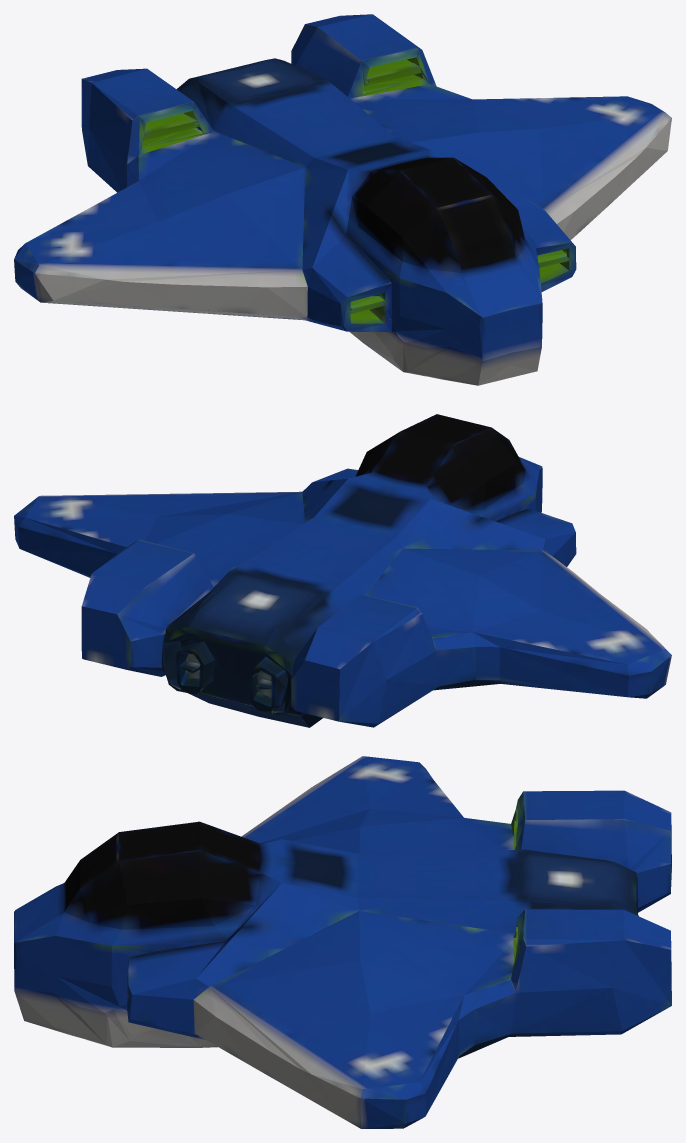
3 renders of one model, top to bottom at view 1: azimuth 30°, elevation 25°; view 2: azimuth 150°, elevation 25°; view 3: azimuth 270°, elevation 25°, orthographic. The views are drawn at different scales.
Visible parts, largest first — view 1: world; view 2: world; view 3: world.
Boxes of the visible parts, x1,y1,x2,y2 form: world: (14,14,671,385); world: (14,414,671,727); world: (14,756,671,1128).
Bounding box in the file's own units: 1 × 0.2457 × 0.8226.
1 material, 1 textured.
